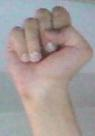S: (1, 4, 95, 86)
